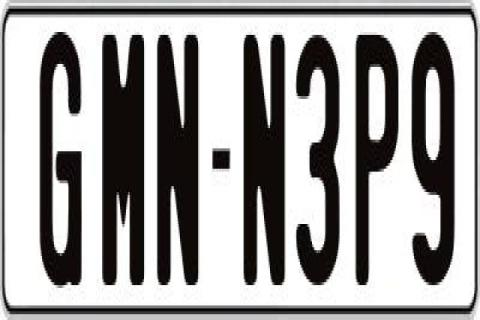0: (294, 32, 340, 300), (410, 29, 458, 282)
G: (39, 29, 83, 285)
M: (100, 26, 142, 294)
N: (242, 35, 286, 297), (155, 35, 201, 285)
P: (353, 32, 399, 282)
